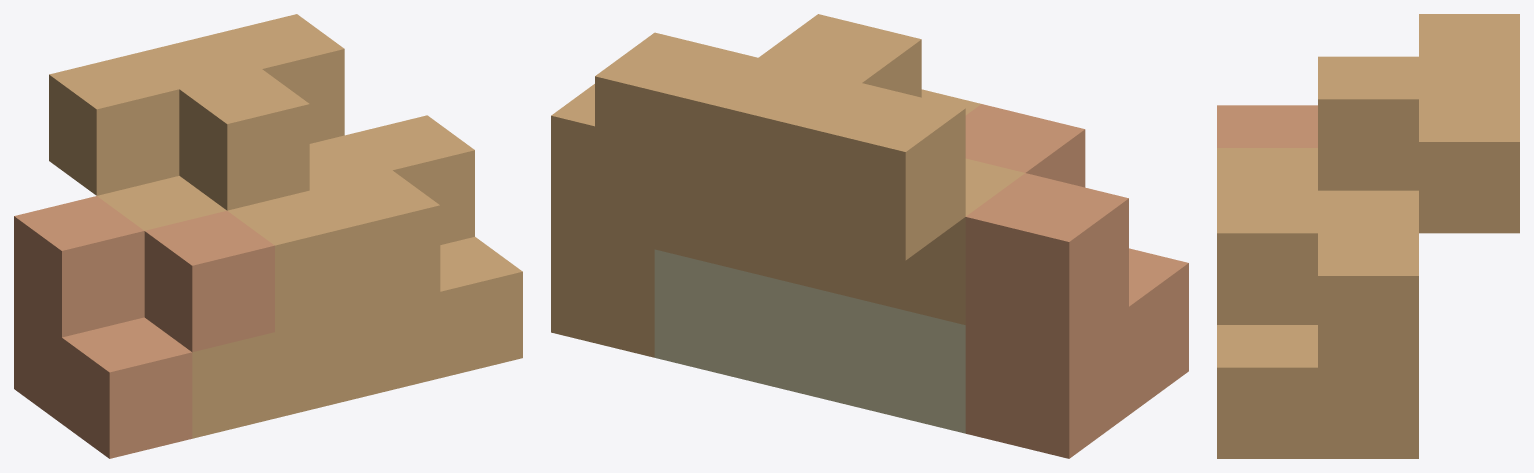
Rendered from Corner Cafe-5.obj.
3 renders of one model, left to right at view 1: azimuth 30°, elevation 25°; view 2: azimuth 150°, elevation 25°; view 3: azimuth 270°, elevation 25°, orthographic. The views are drawn at different scales.
Bounding box in the file's own units: 0.5 × 0.3 × 0.3.
Materials: 1 (1 with a texture image).
